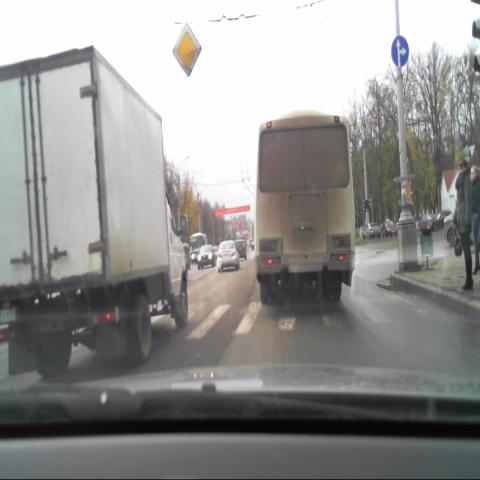4_1_4: (390, 35, 410, 68)
